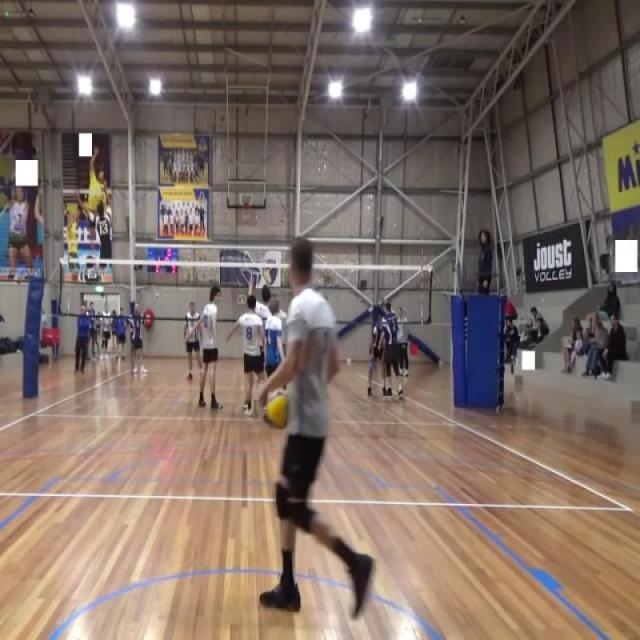volleyball: (262, 387, 291, 433)
